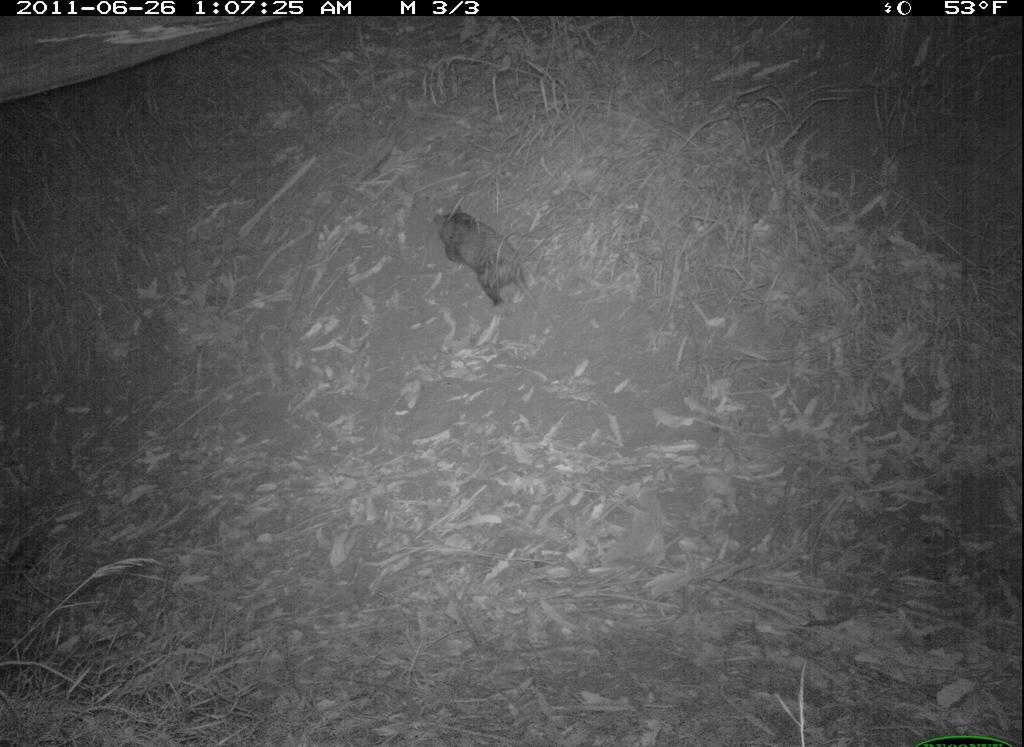opossum: (420, 201, 560, 333)
